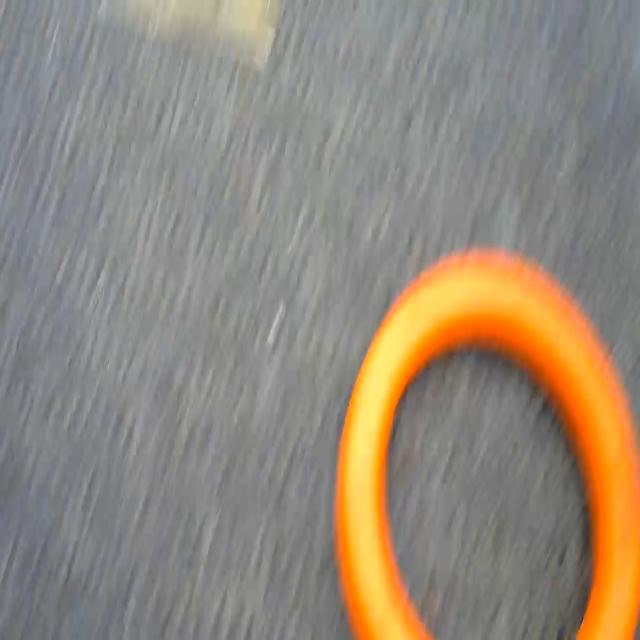note: (327, 239, 640, 640)
